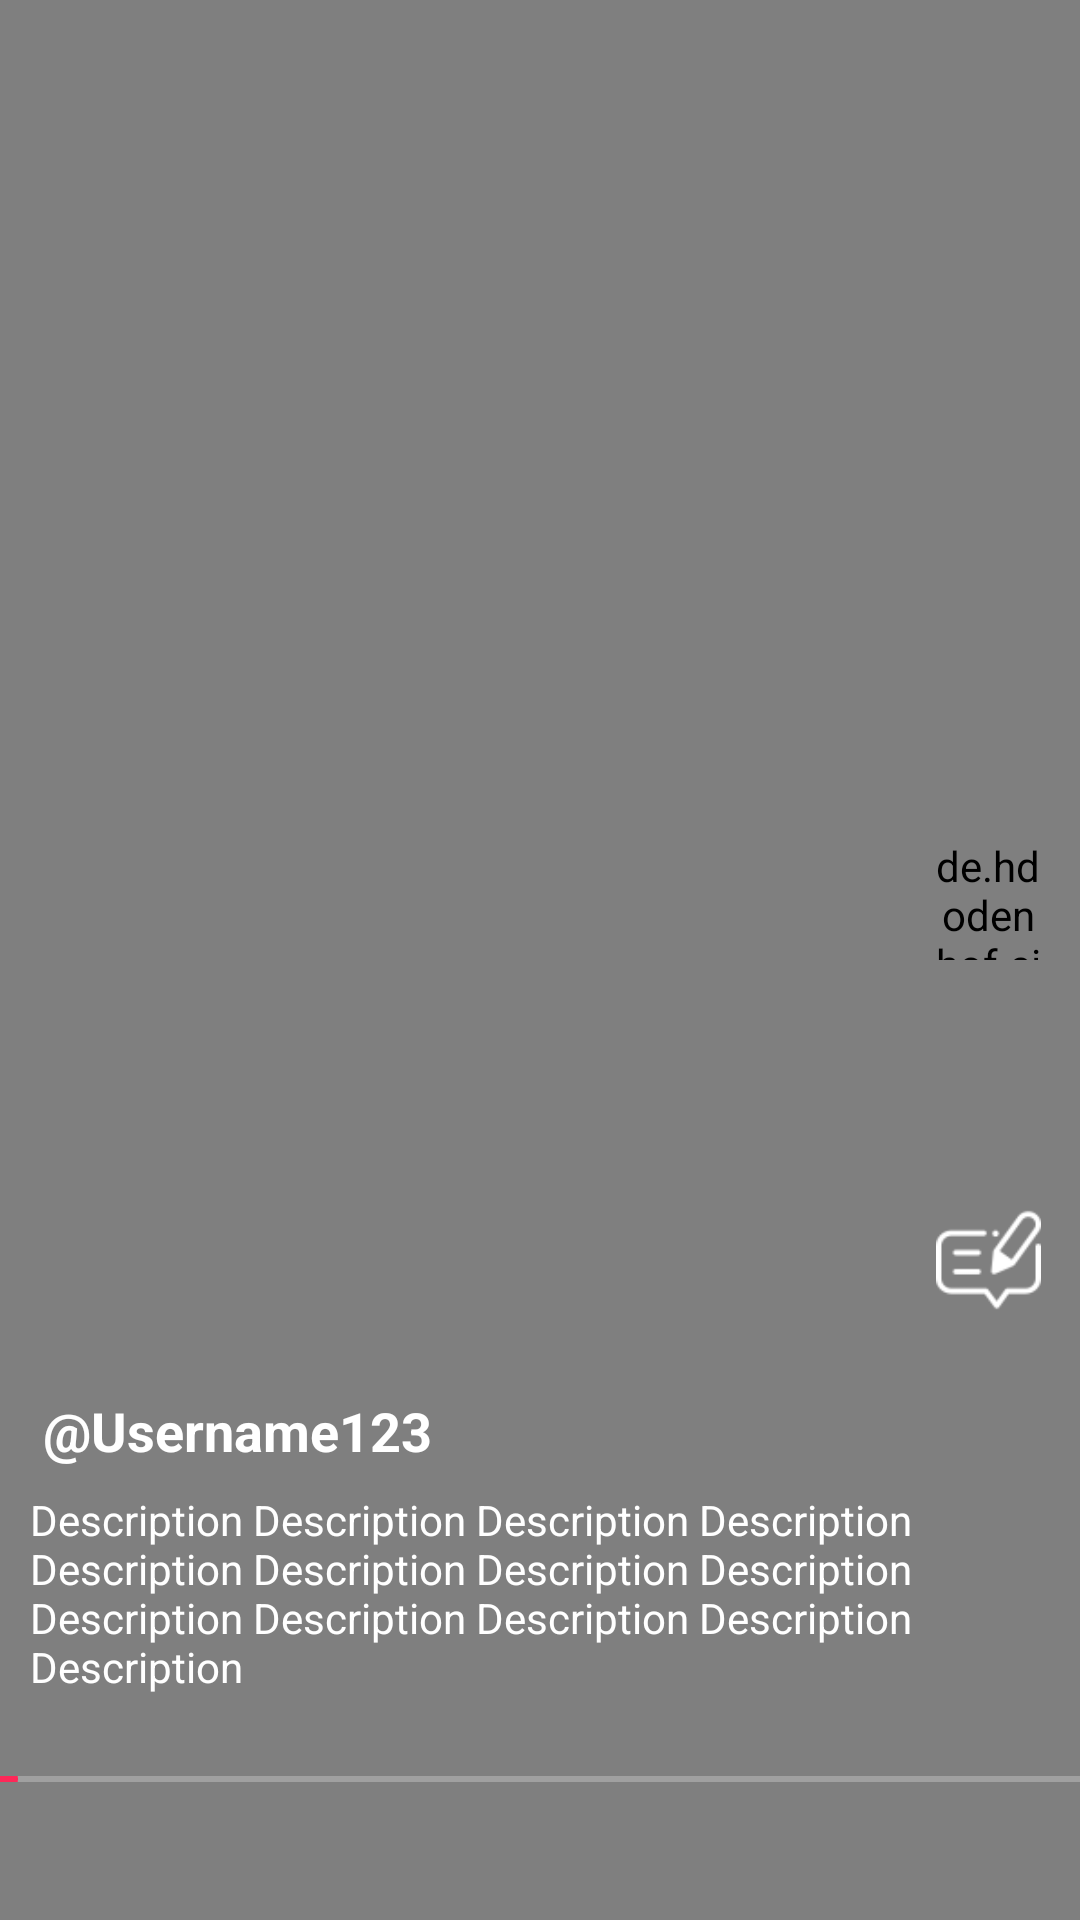

Icon bounding boxes for this 1080×1920 phone screenshot, format (x1, y1, x2, y2):
comment: (936, 1211, 1041, 1309)
